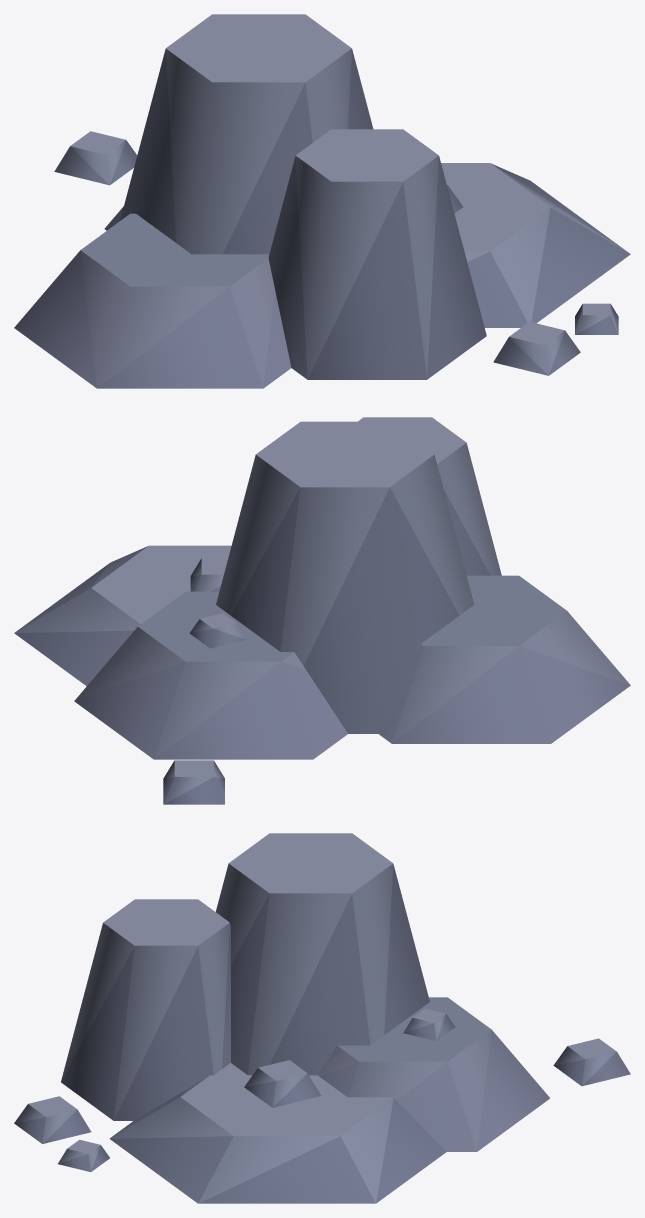
File: kenney_castle_rocks_large.glb
3 views of the same model, one above another, from view 1: azimuth 30°, elevation 25°; view 2: azimuth 150°, elevation 25°; view 3: azimuth 270°, elevation 25° (orthographic). The views are drawn at different scales.
Visible parts, largest first — view 1: stone; view 2: stone; view 3: stone.
Part boxes in pixels (x1,y1,x2,y2): stone: (14,14,630,388); stone: (14,417,630,804); stone: (14,833,630,1203).
Size of the model in its own units: 1.2 by 0.5 by 1.35.
